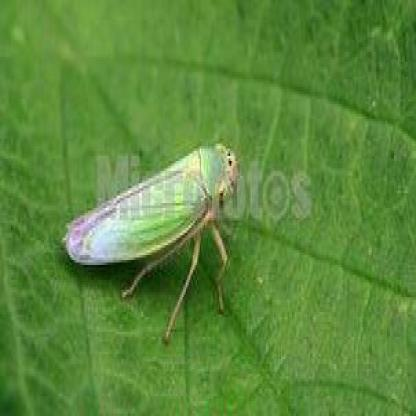Green-Leafhopper: (61, 136, 238, 342)
